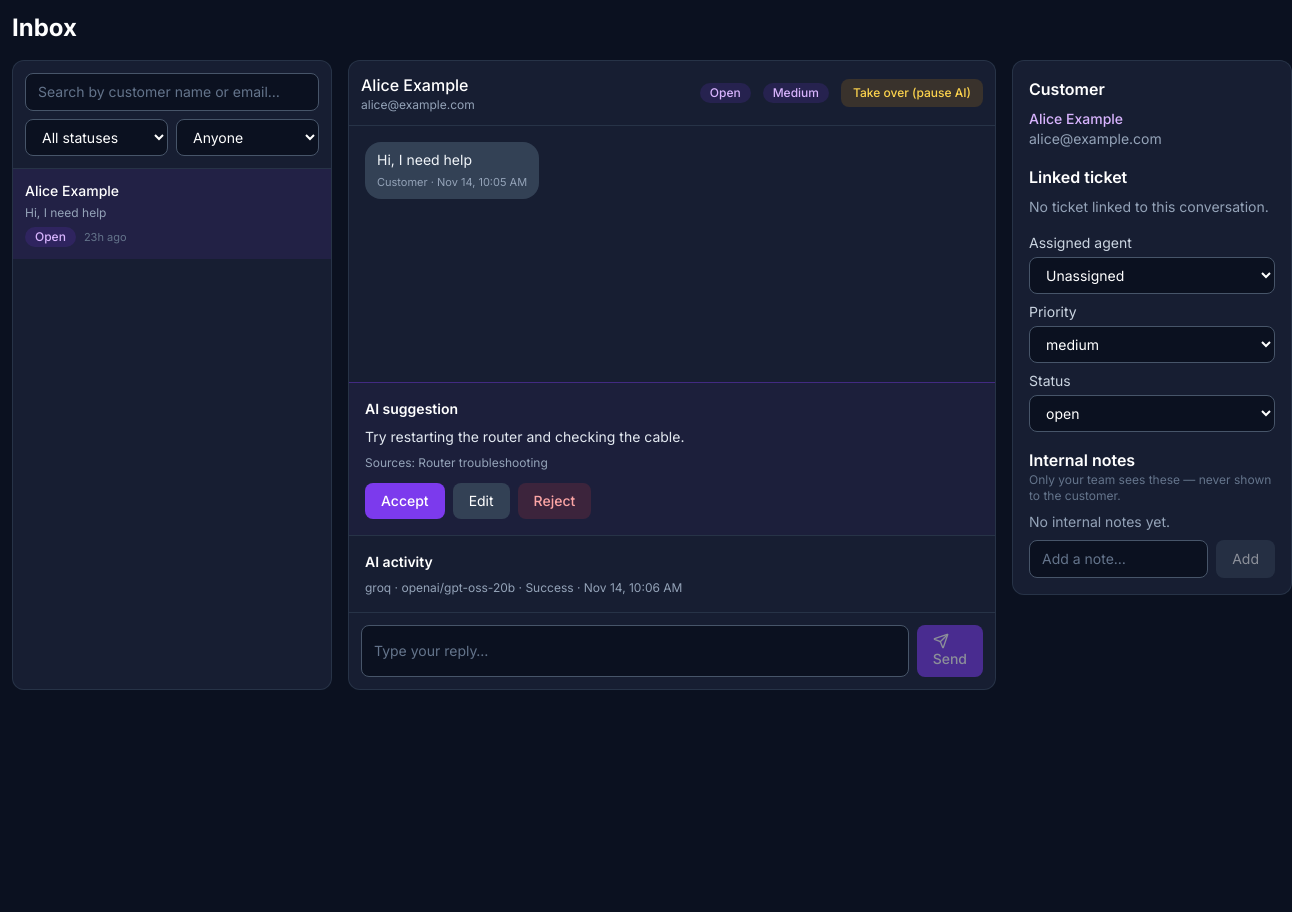
it: Inbox AI suggestion panel › rejects a suggestion
This screenshot has width=1292, height=912.
Check: the heading "AI suggestion" is shown, box left=365, top=400, right=458, bottom=417
Click the button "Reject": x=554, y=501 left=518, top=483, right=591, bottom=519
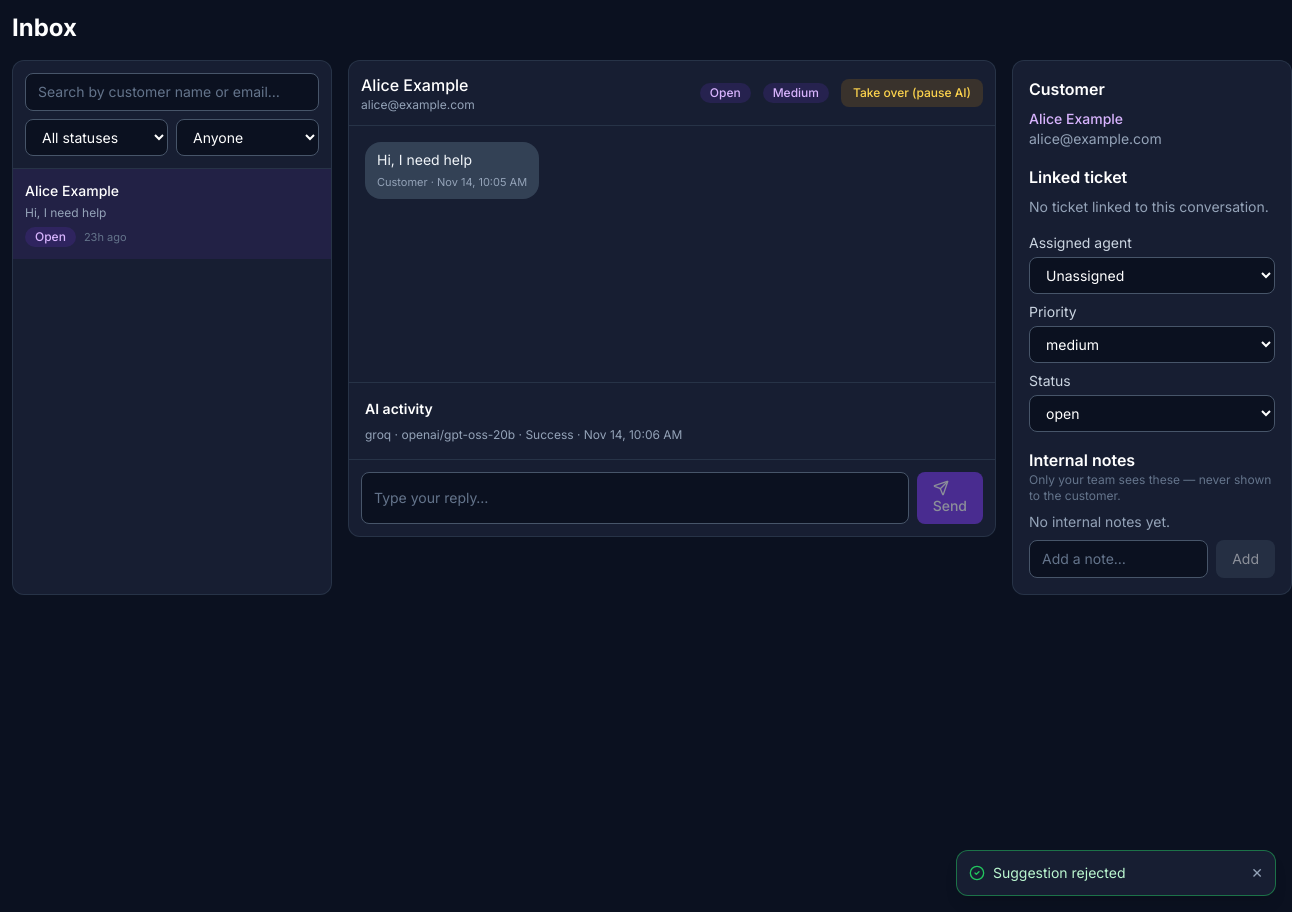
Check: the text "Try restarting the router and checking the cable." is gone
